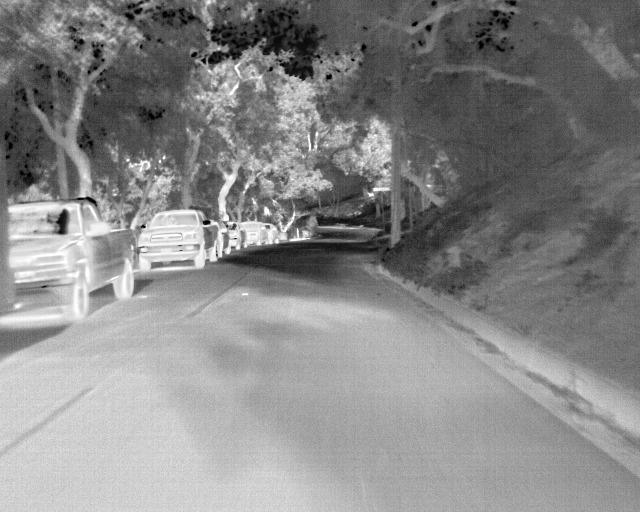car: (1, 195, 137, 320), (138, 209, 223, 272), (223, 220, 246, 250), (246, 220, 269, 247), (267, 222, 288, 243)
